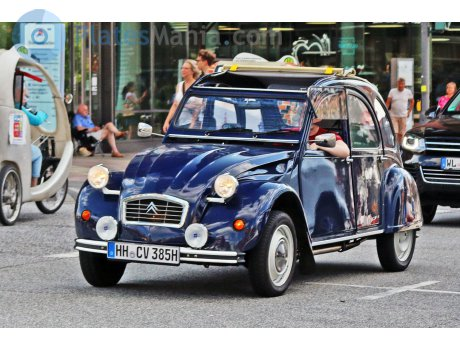License Plates: (115, 243, 181, 260)
